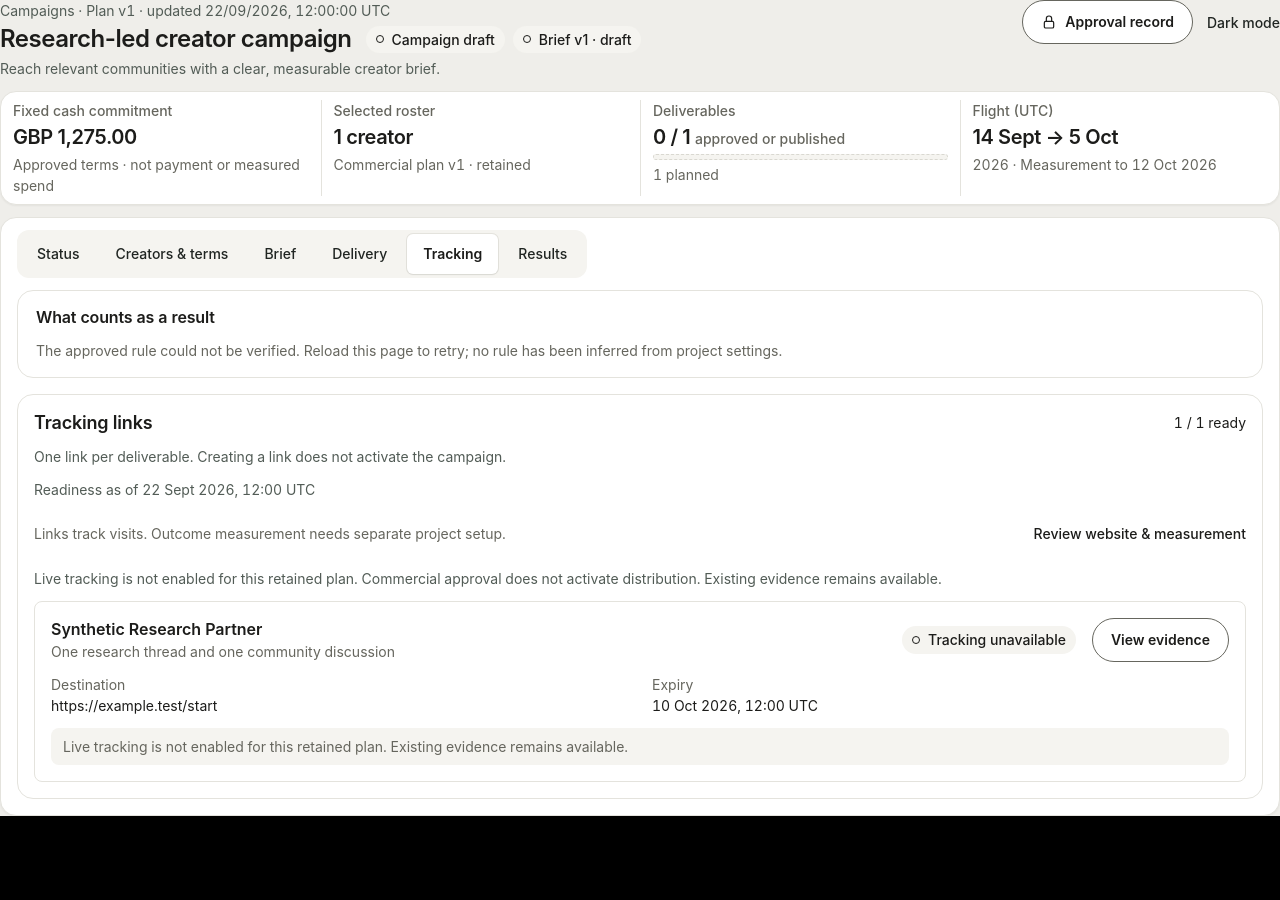
Test: withholds even a supplied signed URL while retaining historical click evidence
expect the text "Tracking unavailable" is shown: met, box [902,626,1076,654]
Click the button "View evidence": coordinates (1160, 640) [1092,618,1229,662]
(page scrolled)
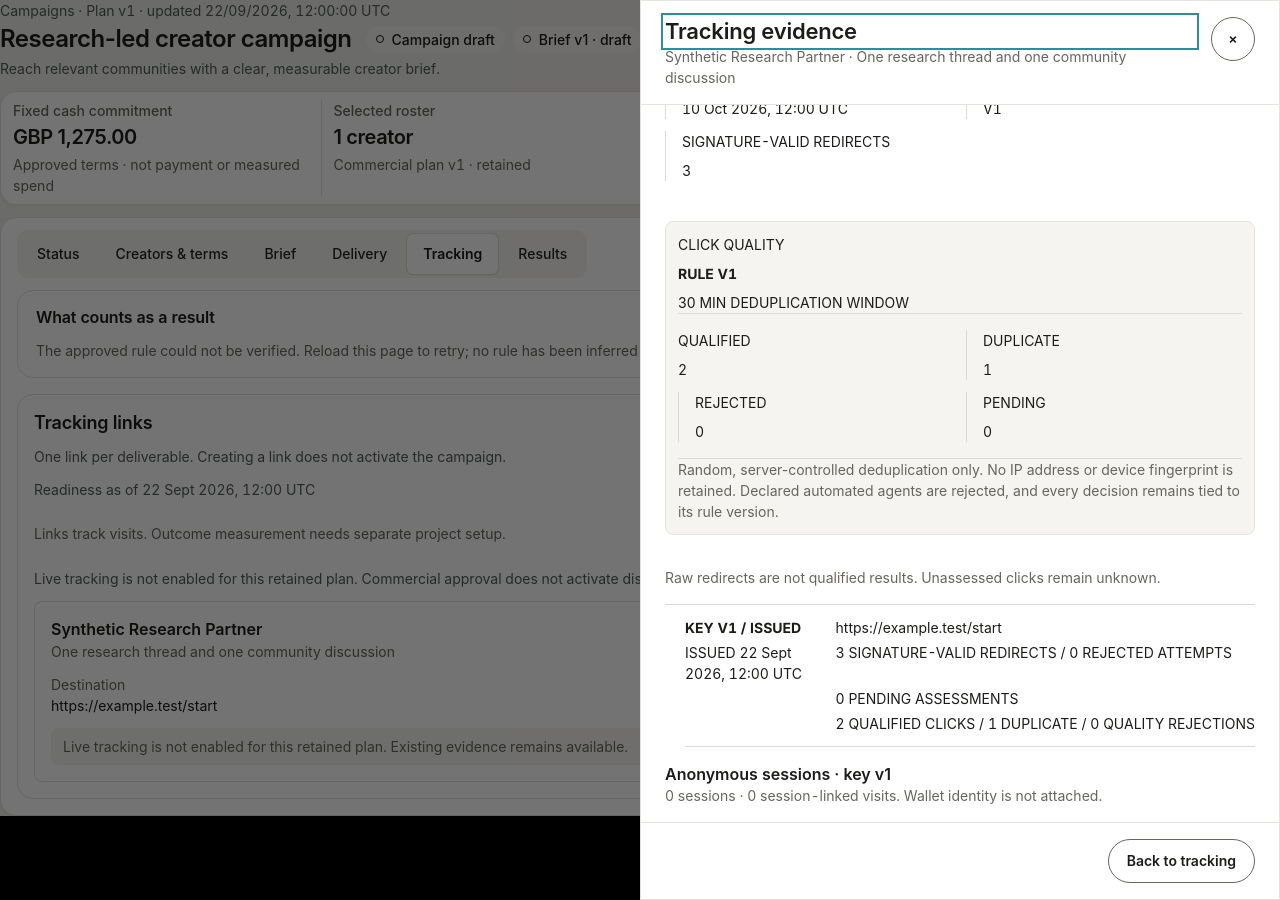
expect the text "2 QUALIFIED CLICKS / 1 DUPLICATE / 0 QUALITY REJECTIONS" is shown: met, box [836,713,1255,734]
